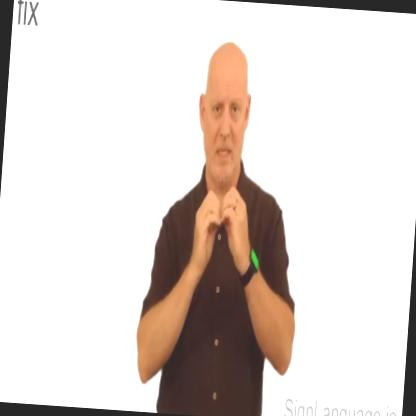Fix: (178, 166, 265, 318)
